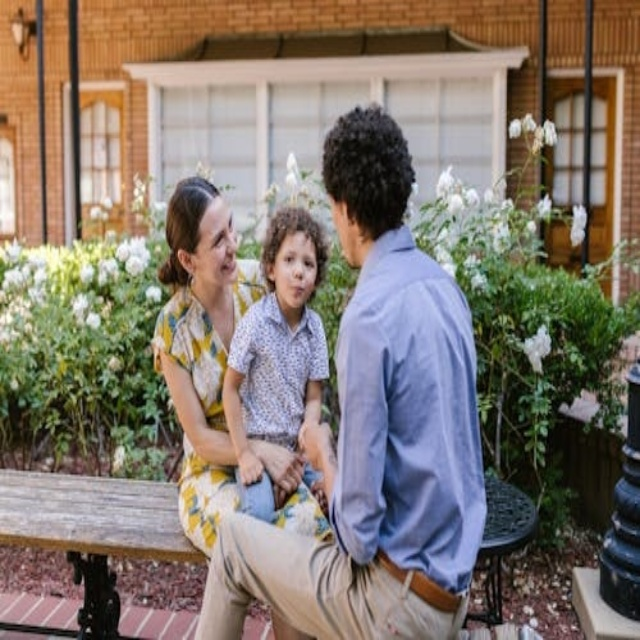Sin_gafas: (201, 209, 237, 250), (280, 248, 315, 275)
Sin_guantes: (260, 440, 306, 500), (234, 446, 256, 486)
Sin_mascara: (282, 279, 305, 306), (219, 261, 235, 276)
